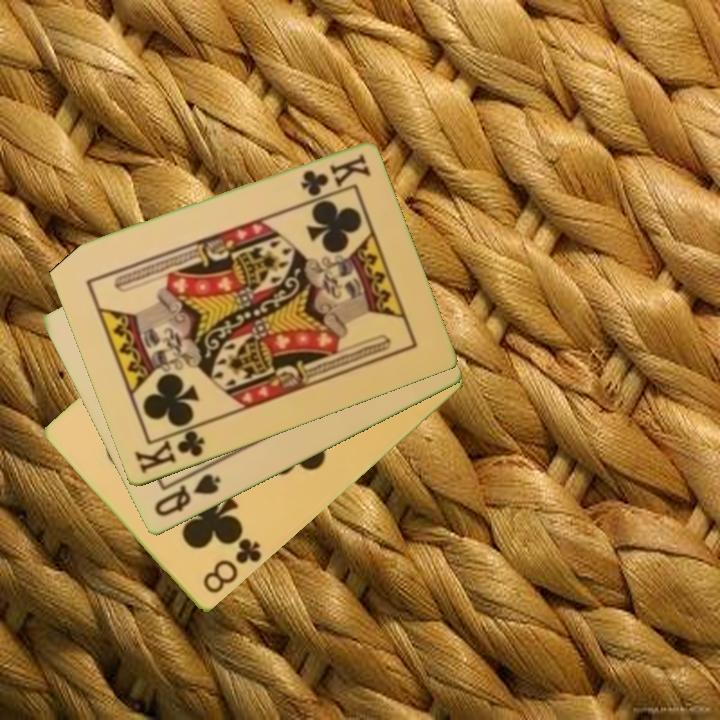8c: (199, 531, 265, 597)
Kc: (130, 422, 208, 478), (296, 150, 373, 199)
Qs: (150, 470, 224, 520)
